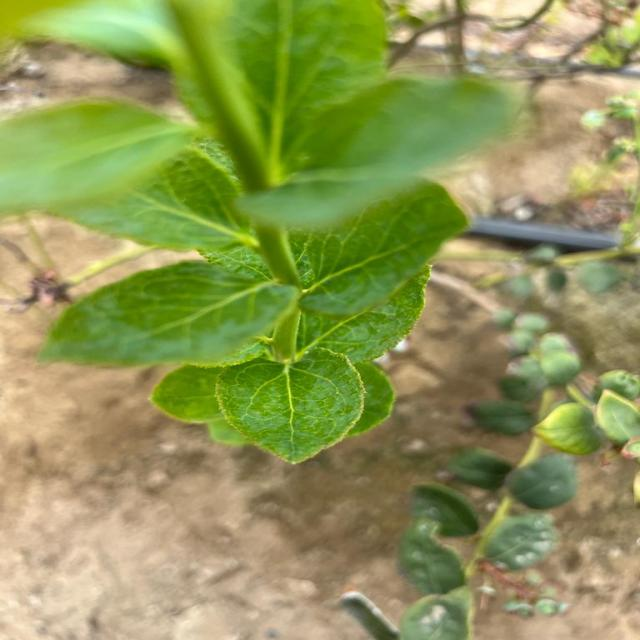Hojas sanas sin oidiosis: (214, 345, 358, 468)
